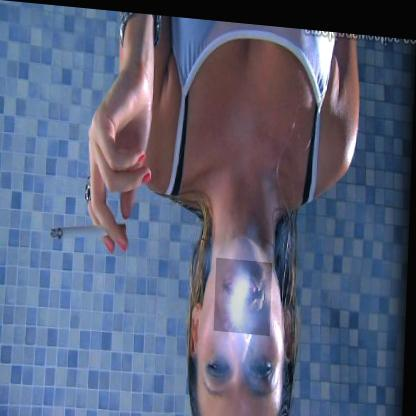smoke: (216, 253, 274, 330)
